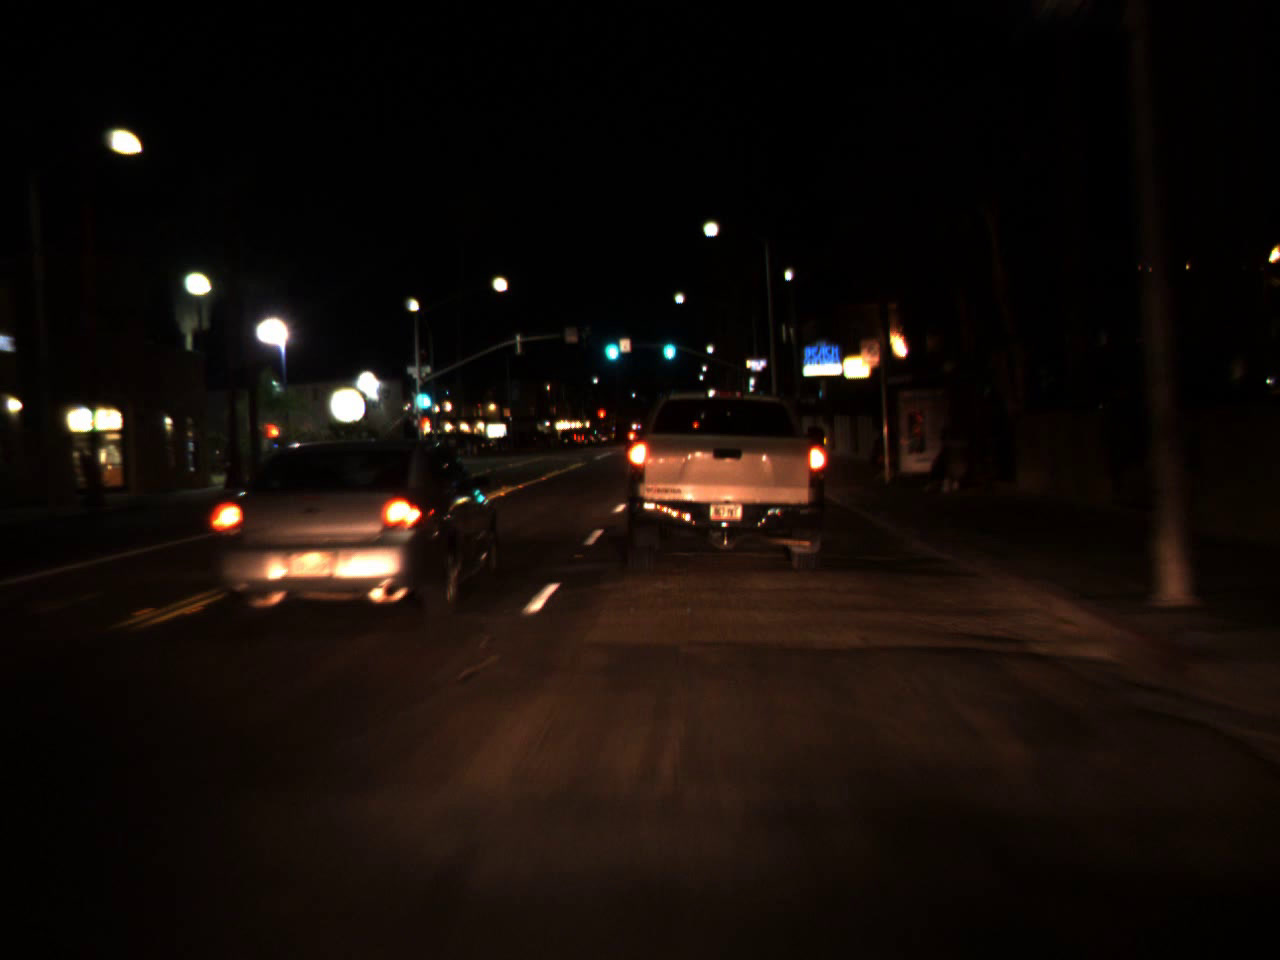go: (410, 373, 433, 415), (600, 324, 621, 366), (658, 327, 677, 363)
